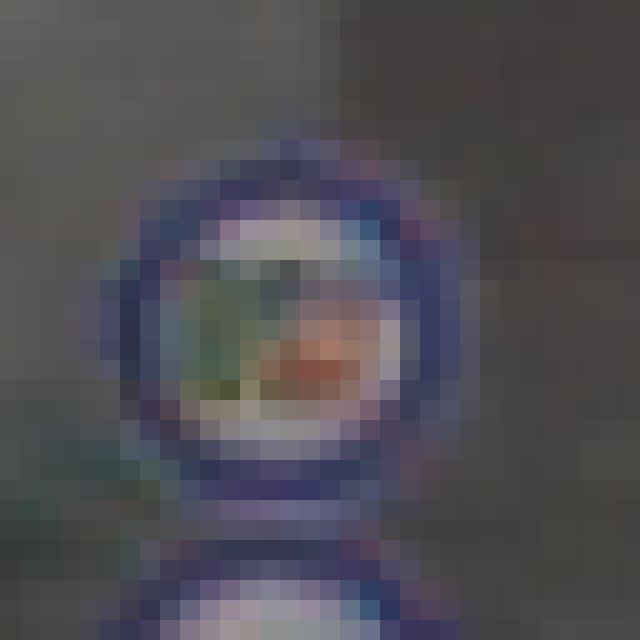SPEED LIMIT 120: (83, 161, 453, 511)
